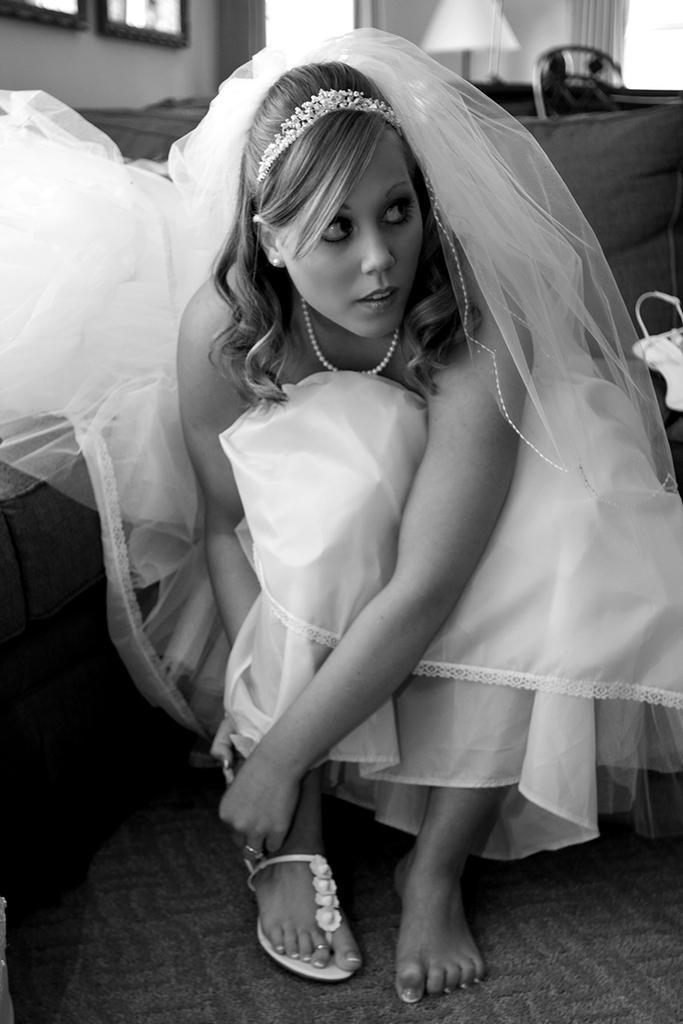Sem Máscara: (286, 130, 432, 344)
